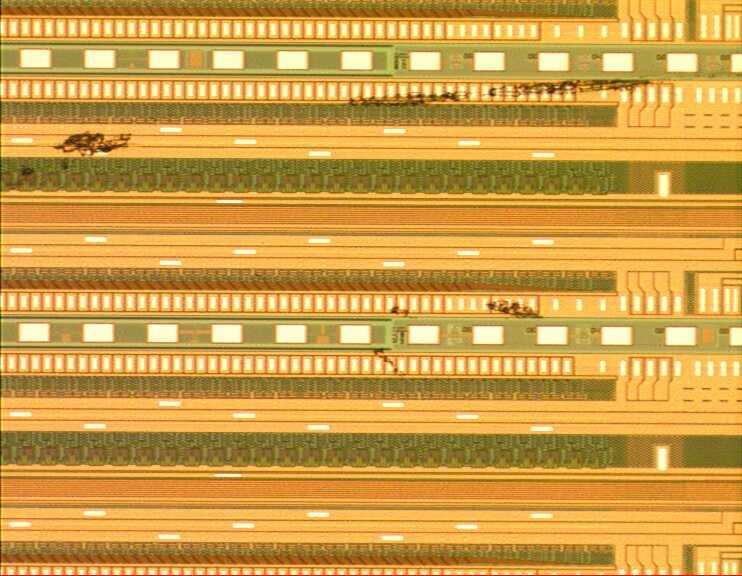SCRATCH: (1, 55, 686, 399)
